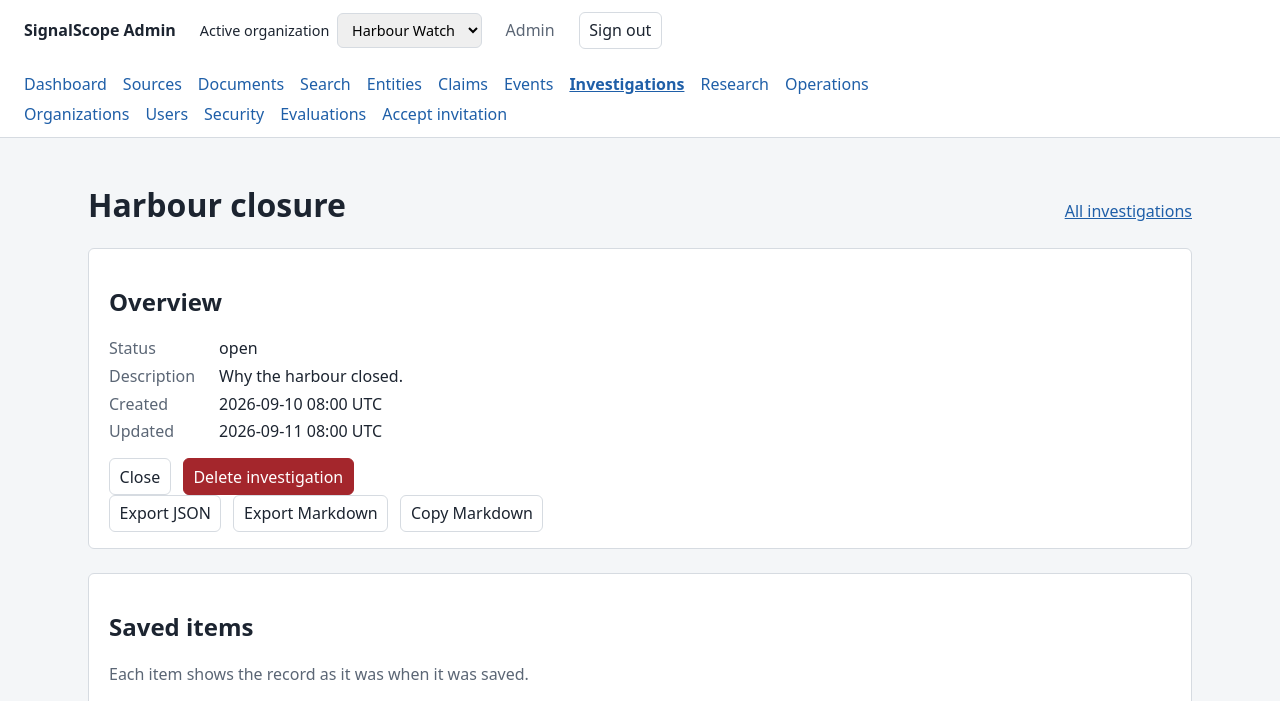
Test: investigation collaborators › leaves nothing of the old organization after switching
Select "River Desk" in the dropdown labelled "Active organization" at {"x": 410, "y": 30}, box [337, 12, 482, 48]
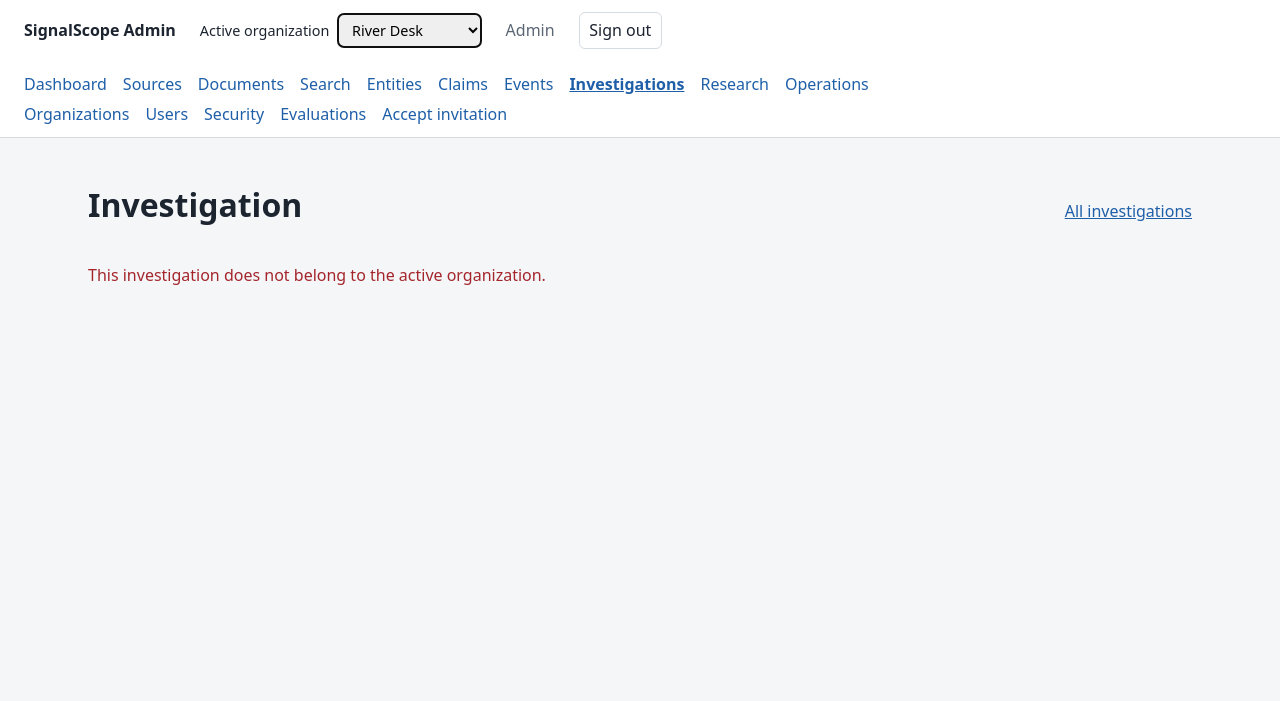
expect the message shows "does not belong to the active organization": met, box [88, 264, 546, 286]
